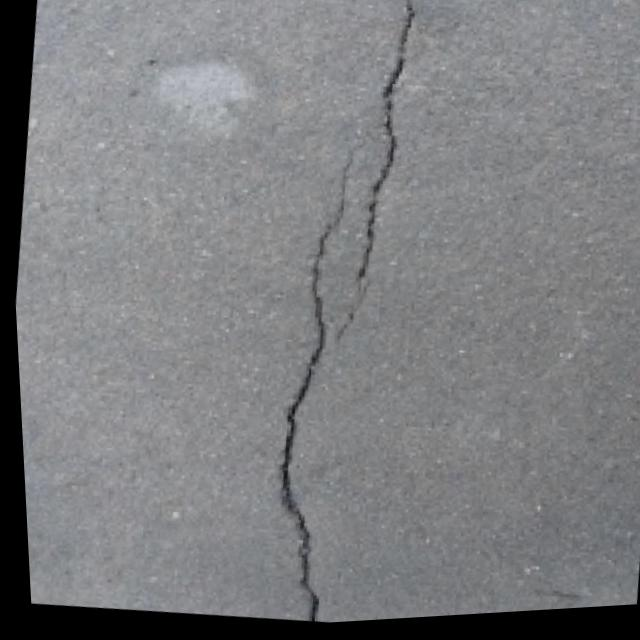Crack: (211, 0, 462, 630)
